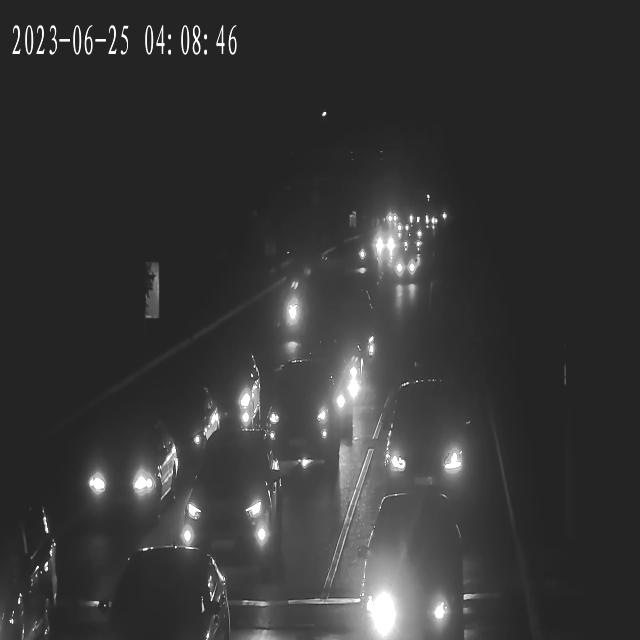Car: (174, 427, 282, 565), (365, 513, 469, 640), (68, 422, 180, 538), (379, 388, 475, 498), (95, 546, 206, 640), (126, 384, 227, 484), (255, 370, 352, 470), (176, 355, 262, 444), (298, 338, 372, 414), (270, 272, 310, 348), (394, 256, 422, 282), (391, 254, 419, 278), (372, 232, 398, 254), (369, 230, 395, 252), (399, 232, 423, 251), (382, 213, 400, 226), (419, 215, 436, 228)
